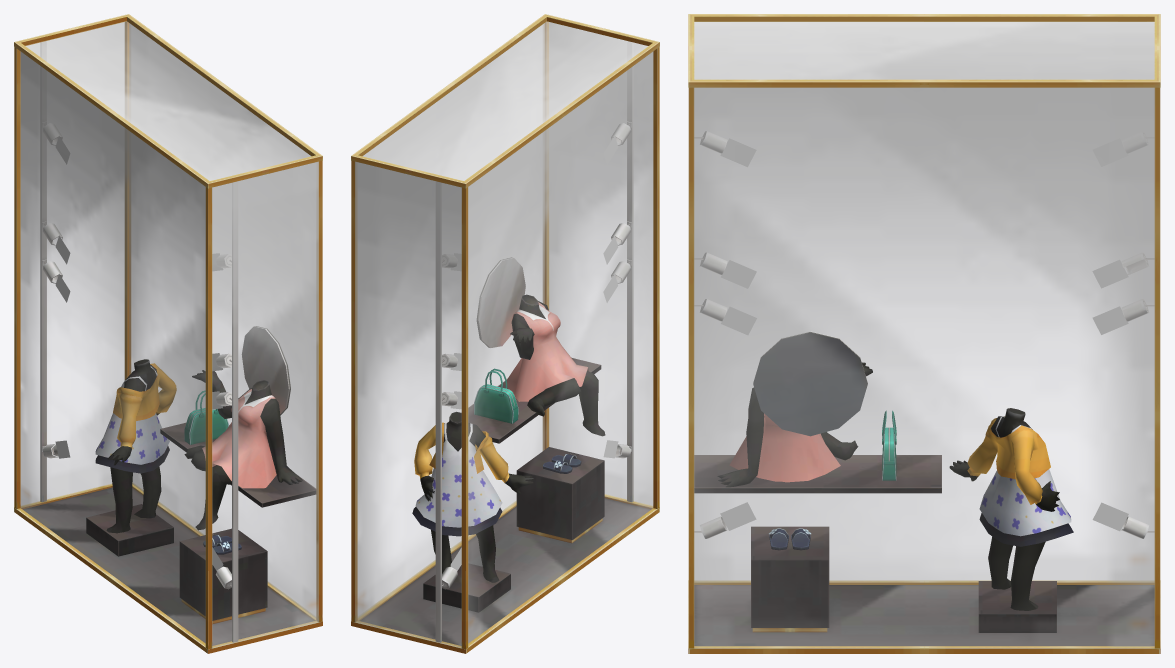
Rendered from my_shoppingmall_01_showwindow_01.glb.
3 renders of one model, left to right at view 1: azimuth 30°, elevation 25°; view 2: azimuth 150°, elevation 25°; view 3: azimuth 270°, elevation 25°, orthographic. The views are drawn at different scales.
Visible parts, largest first — view 1: my_shoppingmall_01_showwindow_01_a, my_shoppingmall_01_showwindow_01, FX_my_shoppingmall_01_showwindow_light; view 2: my_shoppingmall_01_showwindow_01_a, my_shoppingmall_01_showwindow_01, FX_my_shoppingmall_01_showwindow_light; view 3: my_shoppingmall_01_showwindow_01_a, my_shoppingmall_01_showwindow_01, FX_my_shoppingmall_01_showwindow_light.
Boxes of the visible parts, x1,y1,x2,y2 form: my_shoppingmall_01_showwindow_01_a: (20,21,318,647); my_shoppingmall_01_showwindow_01: (14,14,322,653); FX_my_shoppingmall_01_showwindow_light: (55,136,223,570); my_shoppingmall_01_showwindow_01_a: (355,21,653,647); my_shoppingmall_01_showwindow_01: (351,14,659,653); FX_my_shoppingmall_01_showwindow_light: (450,136,618,571); my_shoppingmall_01_showwindow_01_a: (694,22,1154,647); my_shoppingmall_01_showwindow_01: (688,14,1160,653); FX_my_shoppingmall_01_showwindow_light: (720,138,1128,531).
Size of the model in its own units: 0.00532 by 0.0208 by 0.0156.
Materials: 4 (3 with a texture image).
